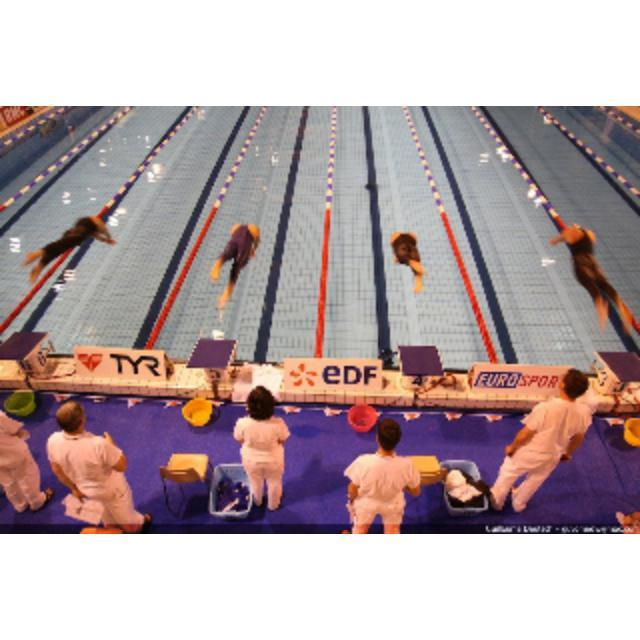human: (553, 221, 635, 333), (22, 214, 120, 284), (210, 224, 262, 310), (390, 230, 428, 298)
